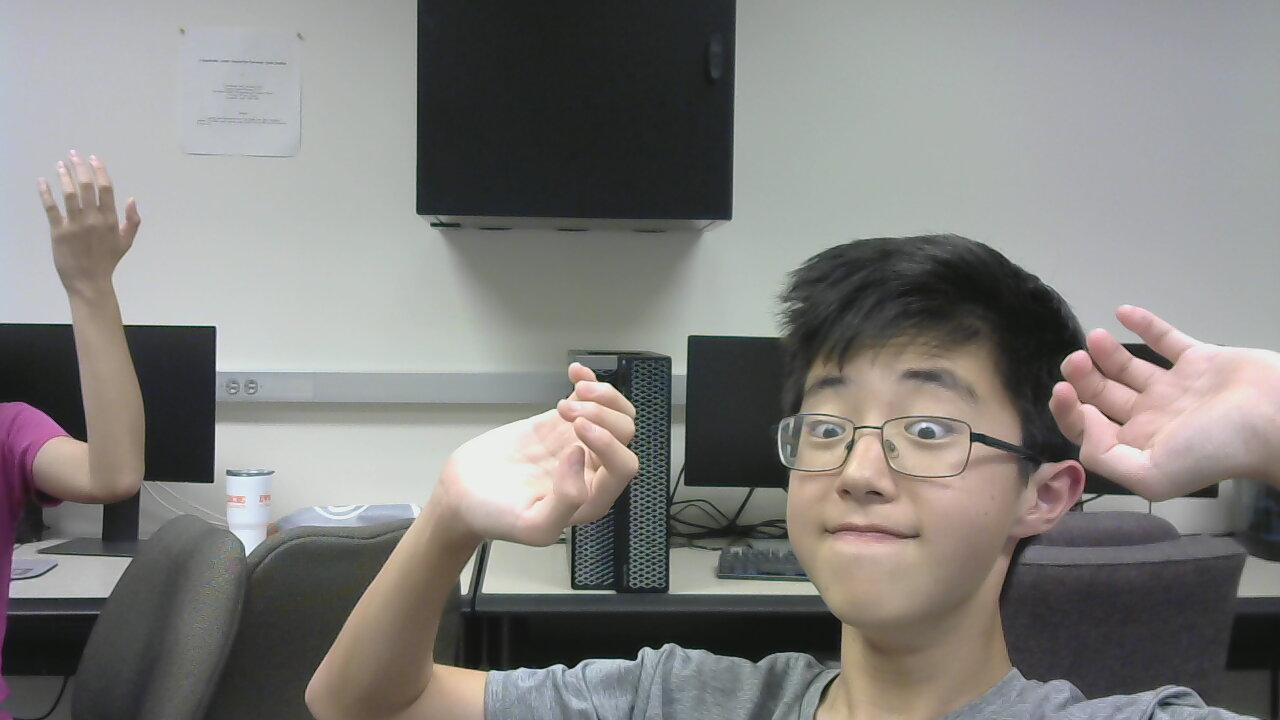hands: (1033, 278, 1273, 494), (456, 355, 643, 571), (23, 144, 143, 306)
